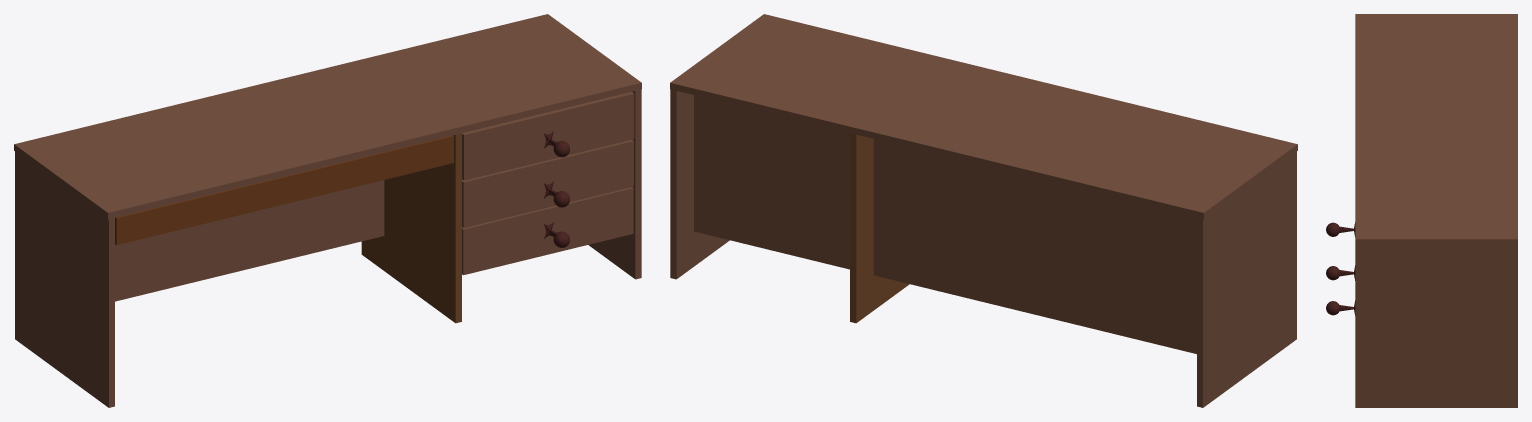
Rendered from çalışma masası.fbx.
3 views of the same model, side by side, from view 1: azimuth 30°, elevation 25°; view 2: azimuth 150°, elevation 25°; view 3: azimuth 270°, elevation 25° (orthographic). The views are drawn at different scales.
Visible parts, largest first — view 1: Cube, Sphere; view 2: Cube; view 3: Cube, Sphere.
Boxes of the visible parts, left/top/right/bottom form: Cube: left=14, top=14, right=641, bottom=407; Sphere: left=544, top=131, right=569, bottom=247; Cube: left=670, top=14, right=1297, bottom=407; Cube: left=1355, top=14, right=1517, bottom=407; Sphere: left=1326, top=222, right=1355, bottom=315.
Size of the model in its own units: 853 by 298 by 307.
